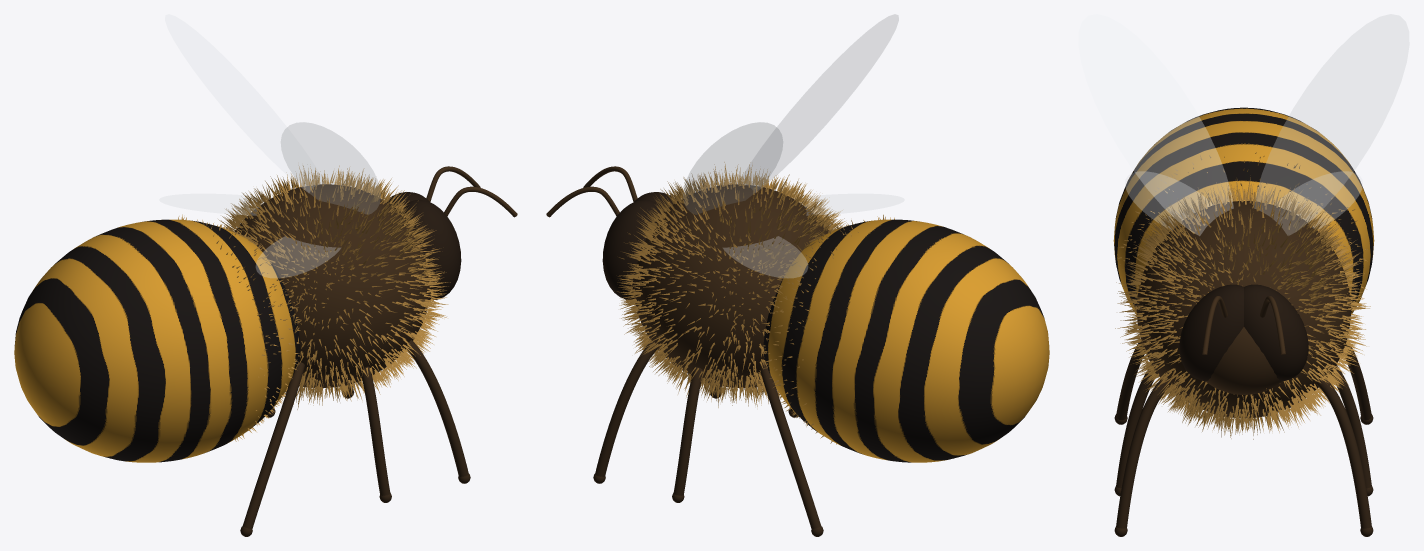
The model's file is bee-hero-drone.glb.
The picture shows the model from 3 angles, left to right: view 1: azimuth 30°, elevation 25°; view 2: azimuth 150°, elevation 25°; view 3: azimuth 270°, elevation 25°; orthographic projection. The views are drawn at different scales.
Parts seen in each view (by area): view 1: abdomen, thorax, fuzz, foreWingL, foreWingR, compoundEyeR, hindWingR, hindLegR, foreLegR, hindWingL, midLegR; view 2: abdomen, thorax, fuzz, foreWingR, foreWingL, compoundEyeL, hindWingL, hindLegL, foreLegL, hindWingR, midLegL; view 3: abdomen, fuzz, thorax, foreWingL, foreWingR, compoundEyeL, compoundEyeR, head, hindWingR, hindWingL, foreLegL, foreLegR (+6 smaller).
Boxes of the visible parts, <box> form: abdomen: <box>14,219,300,462</box>; thorax: <box>234,184,430,388</box>; fuzz: <box>178,165,450,441</box>; foreWingL: <box>165,14,323,192</box>; foreWingR: <box>281,122,380,214</box>; compoundEyeR: <box>399,199,461,300</box>; hindWingR: <box>256,236,340,277</box>; hindLegR: <box>242,362,304,529</box>; foreLegR: <box>406,340,468,476</box>; hindWingL: <box>159,194,266,215</box>; midLegR: <box>360,366,390,495</box>; abdomen: <box>763,219,1049,462</box>; thorax: <box>633,184,829,388</box>; fuzz: <box>614,162,894,444</box>; foreWingR: <box>742,14,898,192</box>; foreWingL: <box>683,122,782,214</box>; compoundEyeL: <box>602,199,664,299</box>; hindWingL: <box>723,236,807,277</box>; hindLegL: <box>759,362,821,529</box>; foreLegL: <box>595,340,658,476</box>; hindWingR: <box>794,194,904,215</box>; midLegL: <box>673,366,703,495</box>; abdomen: <box>1113,107,1374,314</box>; fuzz: <box>1115,152,1370,439</box>; thorax: <box>1136,201,1351,418</box>; foreWingL: <box>1254,14,1409,235</box>; foreWingR: <box>1078,14,1233,235</box>; compoundEyeL: <box>1244,284,1308,381</box>; compoundEyeR: <box>1179,284,1243,381</box>; head: <box>1206,327,1281,394</box>; hindWingR: <box>1125,172,1212,230</box>; hindWingL: <box>1279,172,1362,228</box>; foreLegL: <box>1316,377,1371,528</box>; foreLegR: <box>1116,379,1171,528</box>.
Bounding box in the file's own units: 1.4 × 1.17 × 0.8086.
6 materials, 1 textured.
